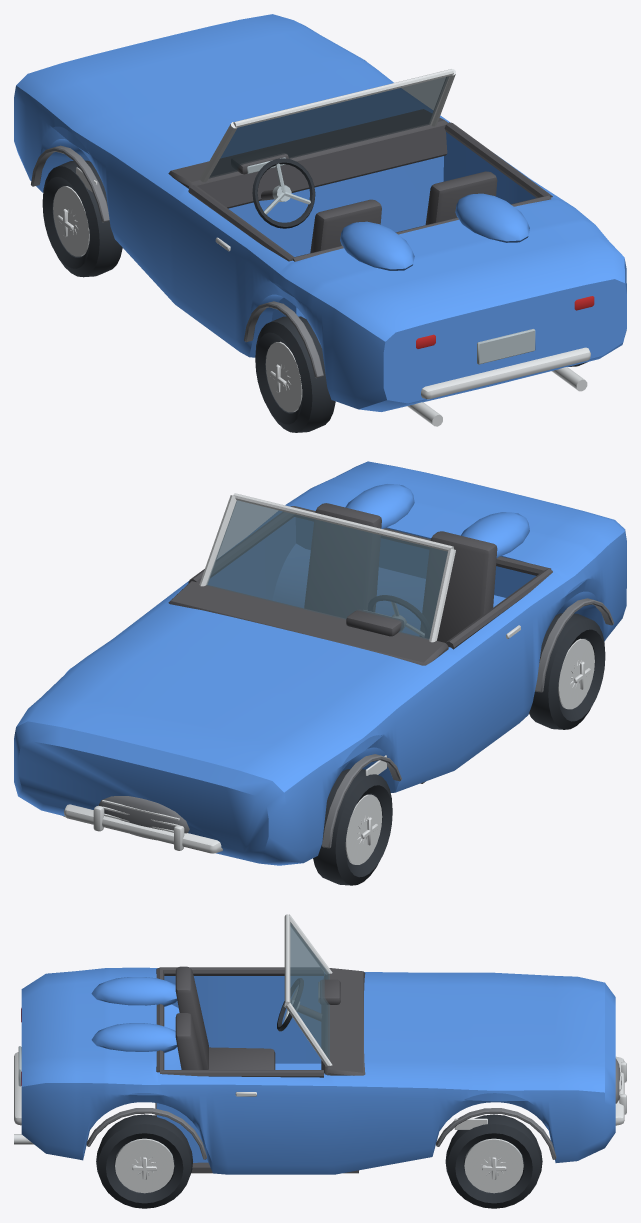
File: Roadster.fbx
The picture shows the model from 3 angles, top to bottom: view 1: azimuth 30°, elevation 25°; view 2: azimuth 150°, elevation 25°; view 3: azimuth 270°, elevation 25°; orthographic projection. The views are drawn at different scales.
Parts seen in each view (by area): view 1: Body__paint, Body__interior, Body__glass, Body__chrome, WheelRL__rubber, WheelFL__rubber, Body__engine, WheelFL__chrome, WheelRL__chrome, Body__metal, Steer__rubber; view 2: Body__paint, Body__interior, Body__glass, Body__chrome, Body__engine, WheelFL__rubber, WheelRL__rubber, WheelRL__chrome, WheelFL__chrome; view 3: Body__paint, Body__interior, WheelRR__rubber, WheelFR__rubber, Body__glass, Body__chrome, WheelFR__chrome, WheelRR__chrome, Body__engine, Steer__rubber.
Part boxes in pixels (x1,y1,x2,y2): Body__paint: (14, 14, 626, 411); Body__interior: (168, 109, 552, 261); Body__glass: (209, 76, 449, 178); Body__chrome: (76, 68, 590, 426); WheelRL__rubber: (255, 316, 335, 432); WheelFL__rubber: (42, 160, 122, 277); Body__engine: (31, 145, 323, 377); WheelFL__chrome: (53, 186, 89, 256); WheelRL__chrome: (265, 341, 302, 412); Body__metal: (247, 157, 535, 364); Steer__rubber: (252, 158, 315, 228); Body__paint: (14, 461, 626, 865); Body__interior: (168, 503, 552, 783); Body__glass: (206, 500, 447, 639); Body__chrome: (64, 493, 520, 853); Body__engine: (98, 598, 613, 848); WheelFL__rubber: (313, 769, 392, 885); WheelRL__rubber: (529, 613, 605, 729); WheelRL__chrome: (558, 638, 594, 709); WheelFL__chrome: (345, 794, 382, 864); Body__paint: (21, 967, 615, 1174); Body__interior: (155, 966, 365, 1173); WheelRR__rubber: (96, 1114, 192, 1208); WheelFR__rubber: (445, 1114, 542, 1208); Body__glass: (290, 922, 329, 1060); Body__chrome: (14, 914, 626, 1144); WheelFR__chrome: (464, 1138, 523, 1193); WheelRR__chrome: (115, 1138, 174, 1193); Body__engine: (86, 1058, 621, 1159); Steer__rubber: (277, 978, 303, 1031).
Size of the model in its own units: 1.92 by 1.41 by 4.04.
